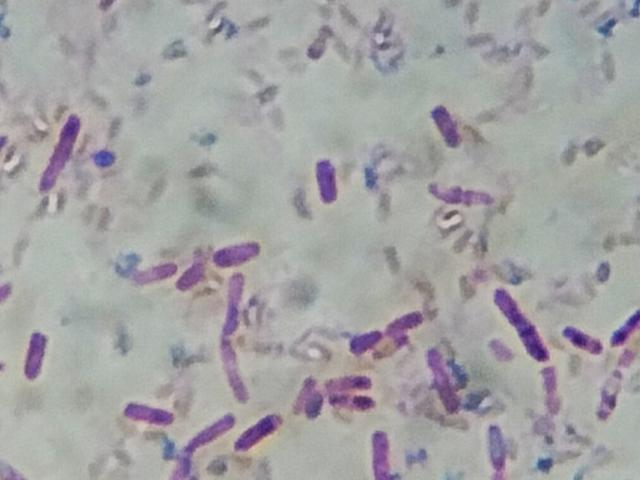E. coli: (37, 106, 87, 202), (492, 284, 551, 359), (223, 275, 255, 400), (426, 345, 465, 418), (428, 107, 470, 158), (184, 412, 237, 448), (239, 410, 281, 454), (314, 155, 345, 211), (123, 396, 172, 431), (562, 320, 605, 359), (23, 326, 48, 385), (613, 297, 640, 351), (487, 419, 513, 472), (217, 239, 264, 268), (326, 371, 383, 394), (366, 429, 392, 478), (339, 325, 385, 352), (388, 312, 432, 339), (328, 392, 380, 414), (135, 261, 177, 285), (179, 257, 208, 291), (294, 374, 315, 411), (306, 386, 328, 418)
